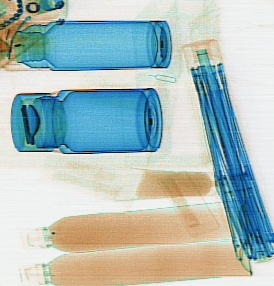pressure: (23, 196, 247, 252), (13, 237, 251, 284)
